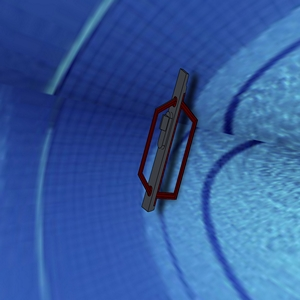submarine: (108, 49, 221, 227)
